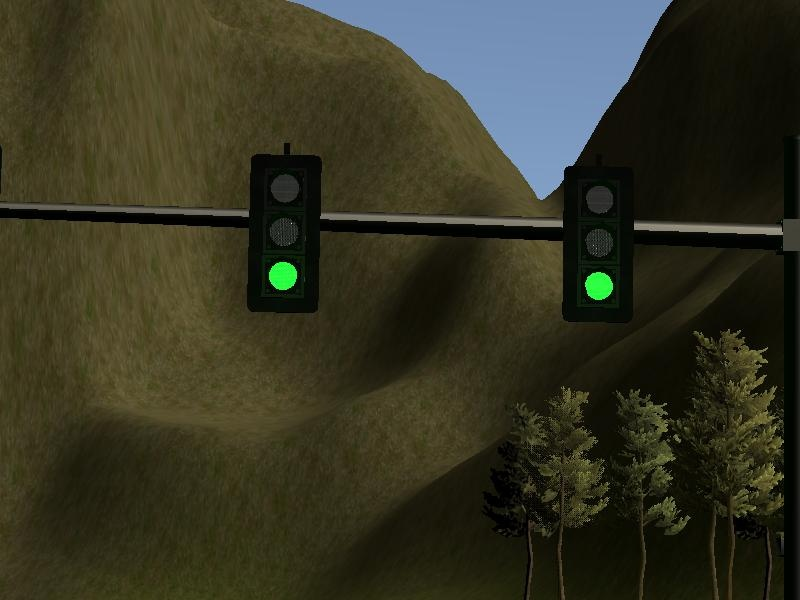GREEN: (248, 155, 320, 311), (563, 167, 634, 320)
